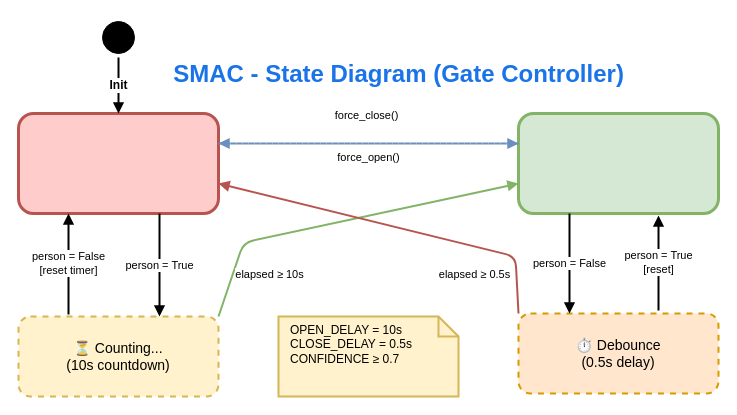
This 737x415 diagram has some shape labels left out. The shapes that lost their labels are listed below. From the top down, each one's box as (x1, y1, x2, y2) in pixels, then its label:
(16, 112, 220, 214): 🔒 CLOSED
(516, 112, 720, 214): 🚪 OPEN
